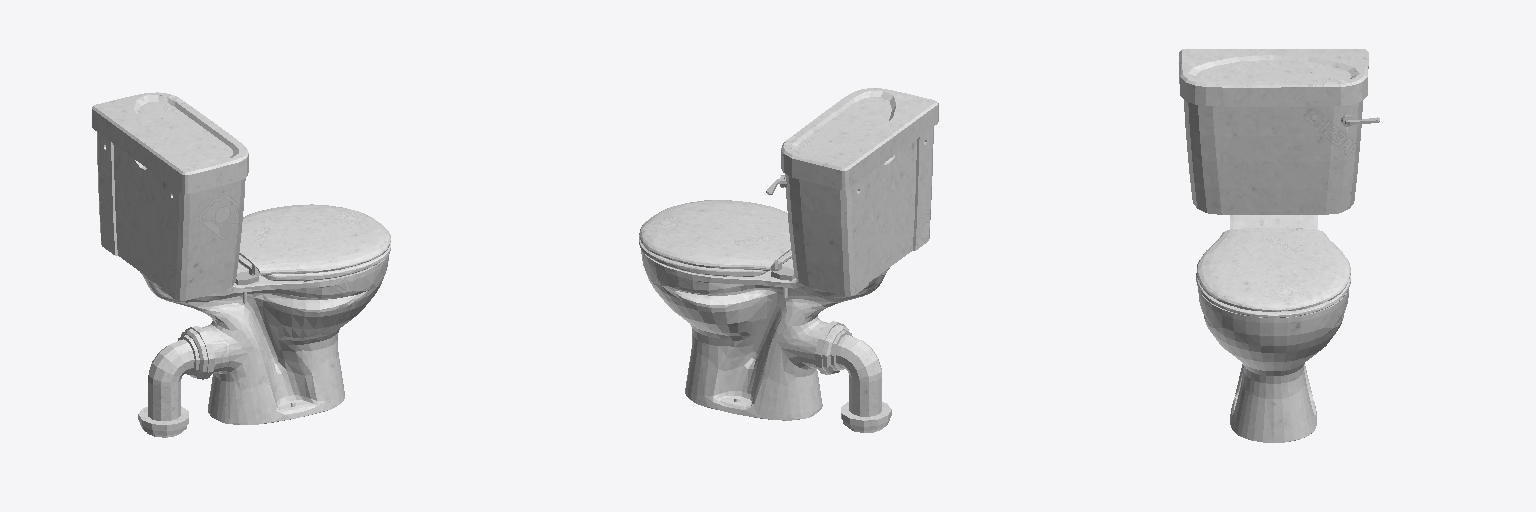
3 renders of one model, left to right at view 1: azimuth 30°, elevation 25°; view 2: azimuth 150°, elevation 25°; view 3: azimuth 270°, elevation 25°, orthographic.
Visible parts, largest first — view 1: Cube.036_Cube.040, Cube.003_Cube.004, Cube.010_Cube.011, Cube.024_Cube.019, Cube.035_Cube.012, Cube.049_Cube.034; view 2: Cube.036_Cube.040, Cube.003_Cube.004, Cube.010_Cube.011, Cube.024_Cube.019, Cube.035_Cube.012, Cube.049_Cube.034; view 3: Cube.003_Cube.004, Cube.036_Cube.040, Cube.010_Cube.011, Cube.024_Cube.019, Cube.049_Cube.034.
Part boxes in pixels (bbox=[...]): Cube.036_Cube.040: bbox=[140, 253, 389, 424]; Cube.003_Cube.004: bbox=[97, 132, 245, 300]; Cube.010_Cube.011: bbox=[92, 92, 248, 194]; Cube.024_Cube.019: bbox=[239, 204, 390, 275]; Cube.035_Cube.012: bbox=[138, 326, 214, 437]; Cube.049_Cube.034: bbox=[238, 242, 390, 281]; Cube.036_Cube.040: bbox=[641, 250, 889, 420]; Cube.003_Cube.004: bbox=[785, 127, 933, 295]; Cube.010_Cube.011: bbox=[781, 88, 938, 189]; Cube.024_Cube.019: bbox=[639, 200, 790, 271]; Cube.035_Cube.012: bbox=[815, 321, 891, 432]; Cube.049_Cube.034: bbox=[639, 235, 791, 276]; Cube.003_Cube.004: bbox=[1184, 100, 1362, 214]; Cube.036_Cube.040: bbox=[1198, 215, 1348, 442]; Cube.010_Cube.011: bbox=[1179, 49, 1368, 106]; Cube.024_Cube.019: bbox=[1197, 228, 1350, 311]; Cube.049_Cube.034: bbox=[1196, 273, 1350, 317].
Bounding box in the file's own units: 0.6722 × 0.7805 × 0.4801.
9 materials, 1 textured.